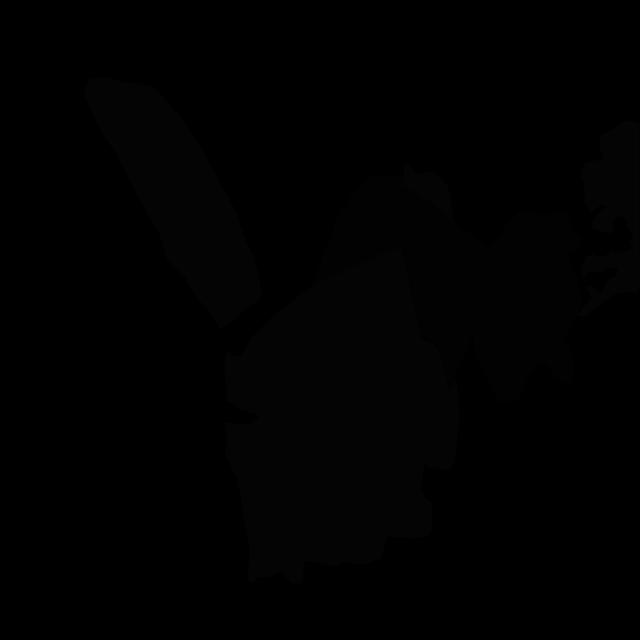cardboard: (312, 175, 501, 390), (472, 211, 583, 403)
soft_plastic: (224, 247, 436, 583), (84, 76, 262, 329), (577, 120, 640, 317), (422, 338, 460, 470), (402, 164, 454, 221)
